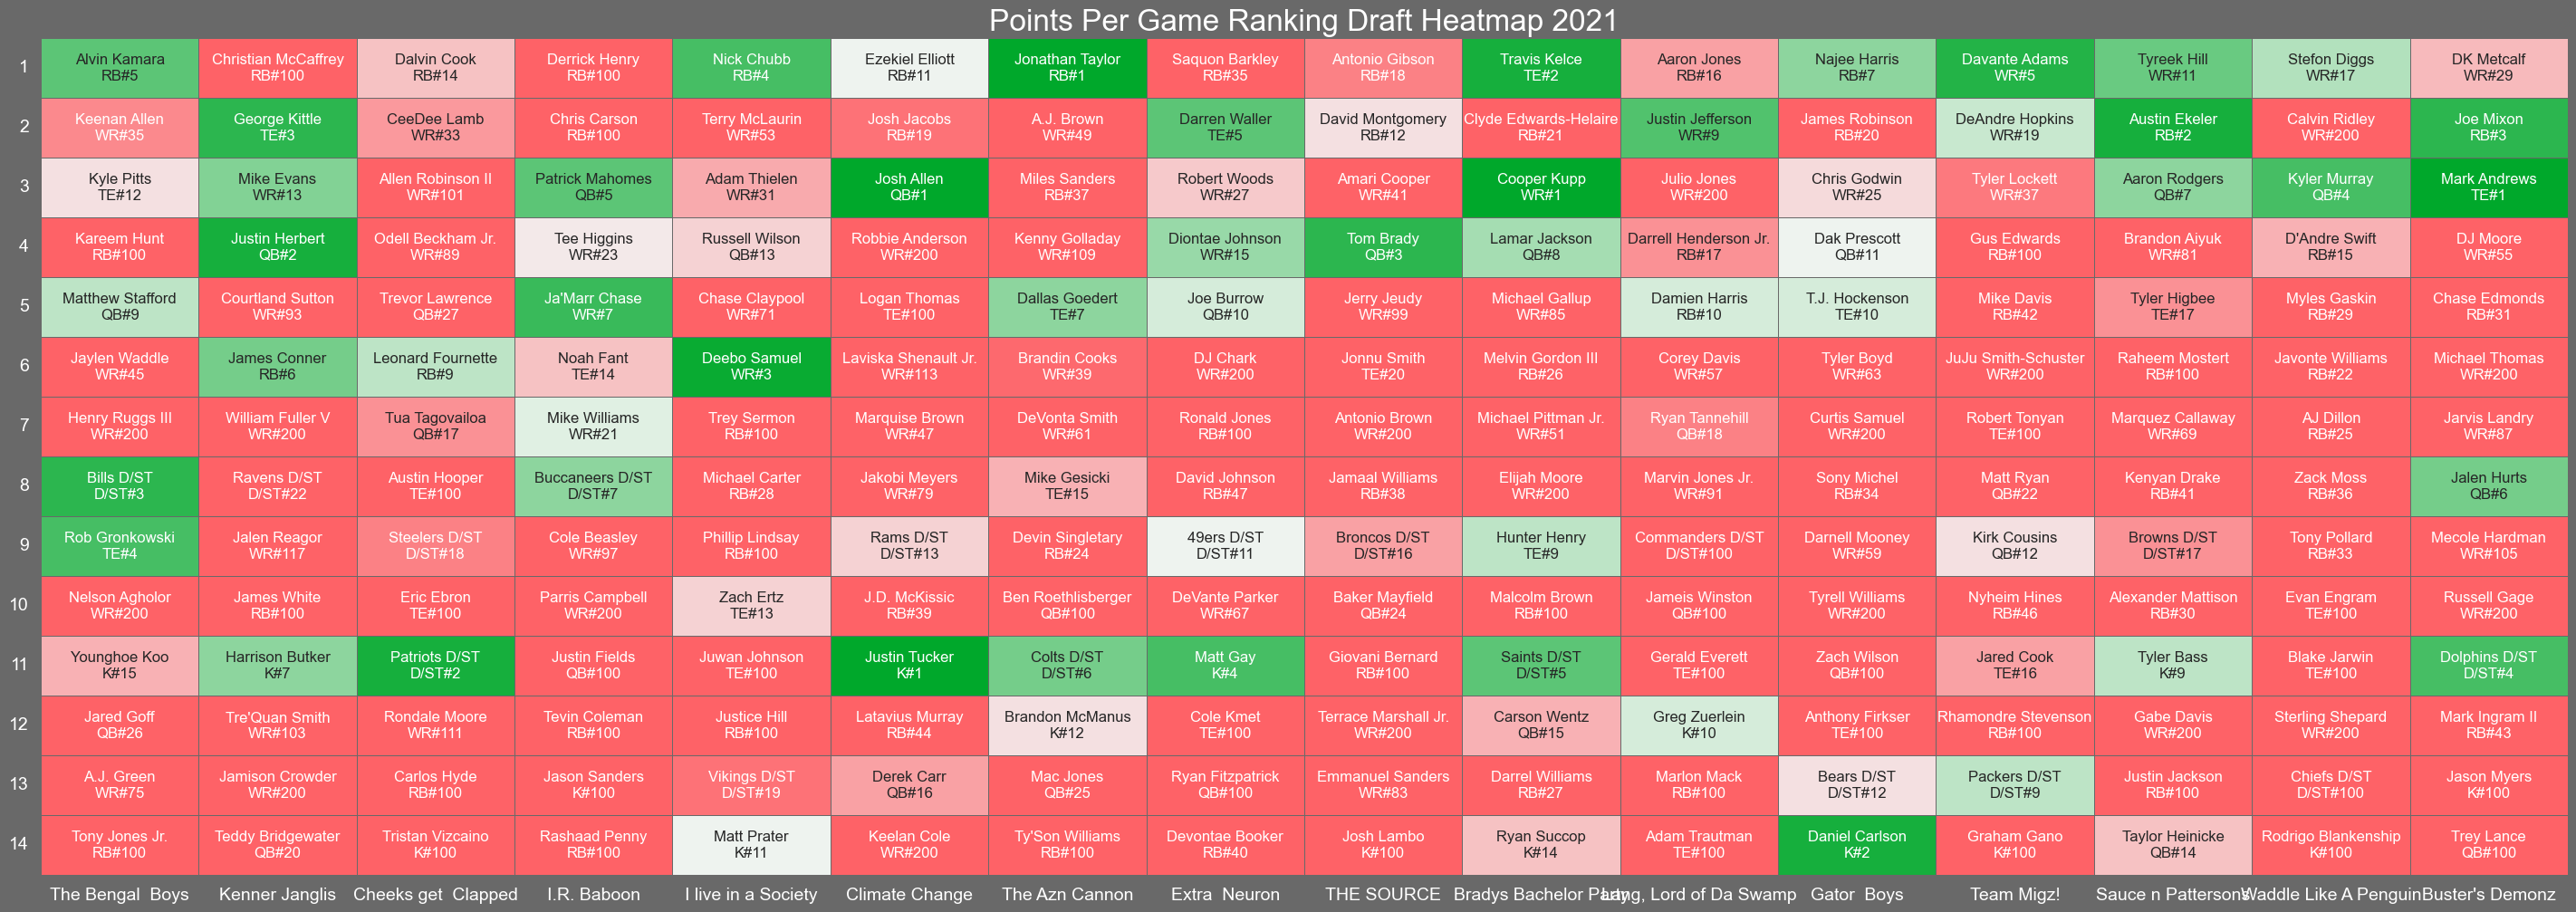

The page's visual inventory and layout, read from the dashboard file:
{"tool":"powerbi","page":{"name":"Page 3","canvas":[1280,720],"ordinal":2},"visuals":[{"type":"pivotTable","fields":{"Rows":["Query1.round","Query1.playername"],"Columns":["Query1.pick"],"Values":["Sum(Query1.total)"]},"box":[0,0,1280,720],"z":1}]}

Visuals, with their boxes on the page's 1280x720 design canvas (x1, y1, x2, y2). These are canvas units, not pixel positions in the 2576x912 screenshot, which may show the page scaled, cropped or inside an application window:
pivotTable - Query1.round x Query1.playername: rect(0, 0, 1280, 720)
